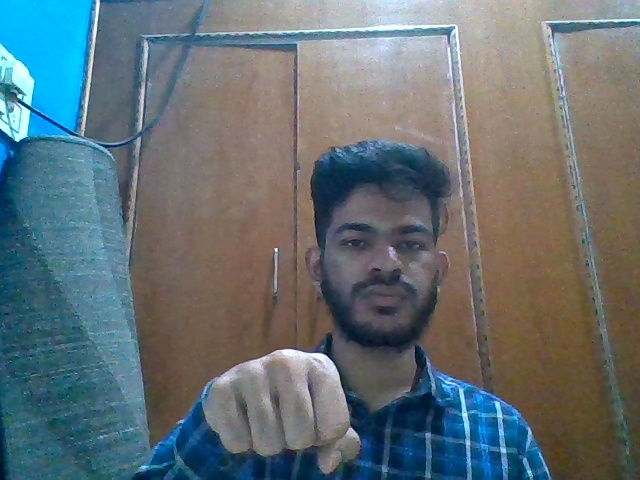yes: (200, 342, 367, 474)
